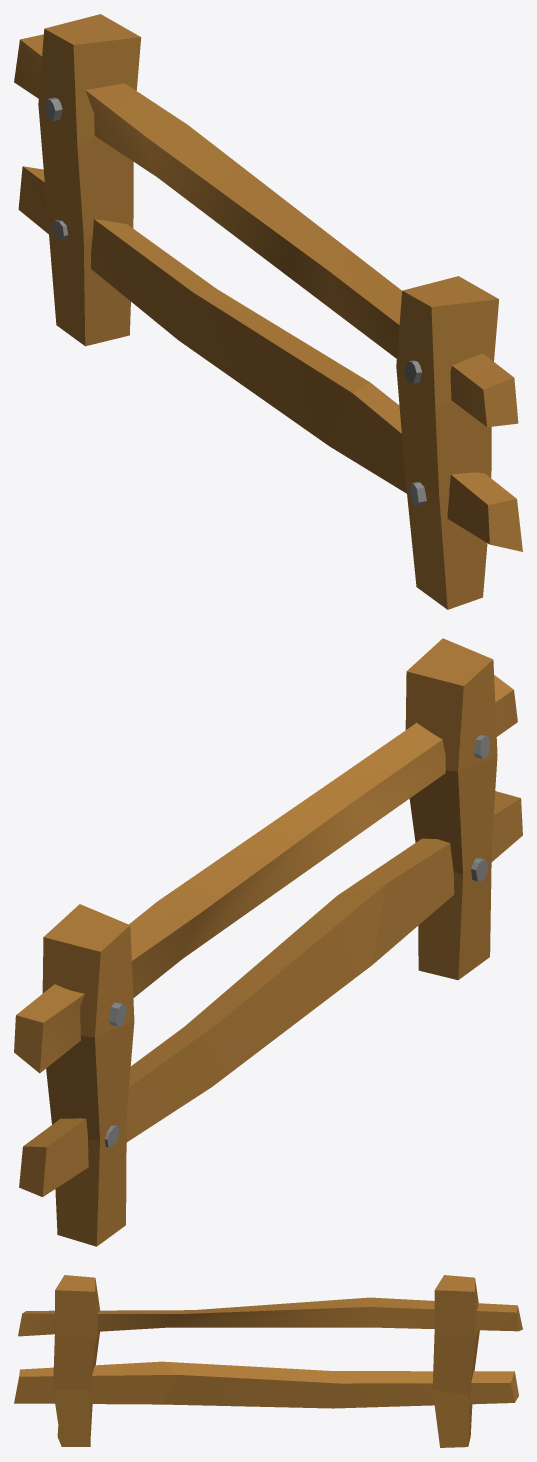
Rendered from Barrière_01.fbx.
3 renders of one model, top to bottom at view 1: azimuth 30°, elevation 25°; view 2: azimuth 150°, elevation 25°; view 3: azimuth 270°, elevation 25°, orthographic. The views are drawn at different scales.
Visible parts, largest first — view 1: Barrière_01; view 2: Barrière_01; view 3: Barrière_01.
Boxes of the visible parts, bbox=[...] form: Barrière_01: bbox=[14, 14, 522, 609]; Barrière_01: bbox=[14, 638, 522, 1246]; Barrière_01: bbox=[14, 1275, 522, 1447].
Size of the model in its own units: 33.01 by 143 by 415.
Materials: 1 (1 with a texture image).
